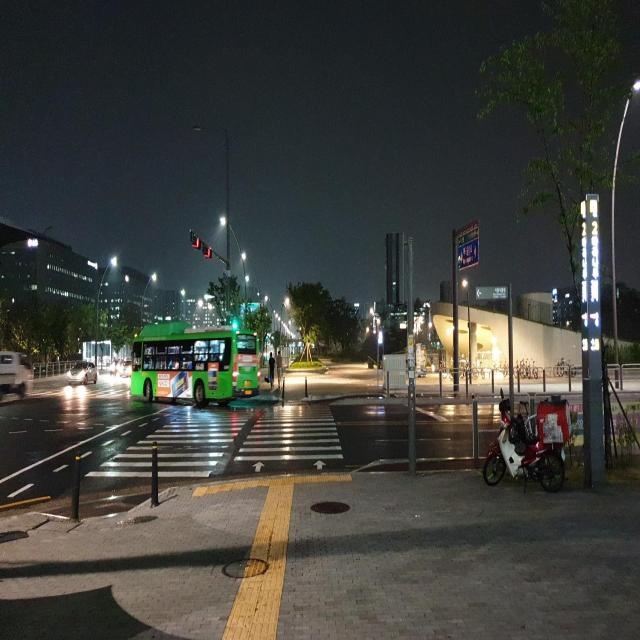횡단보도: (84, 403, 344, 478)
